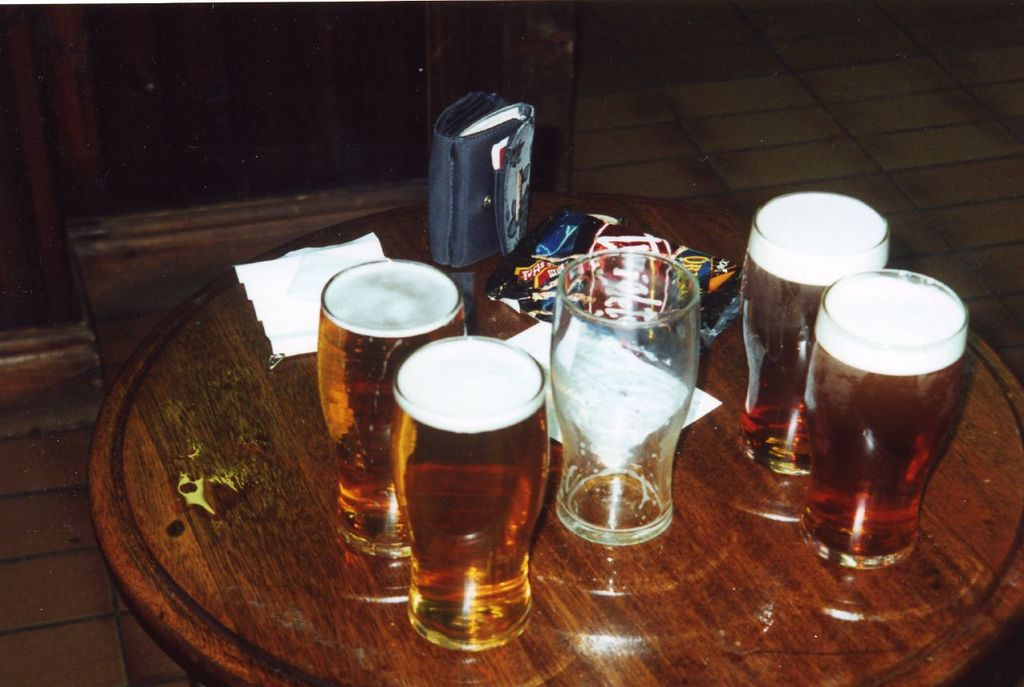Beer: (388, 335, 548, 646), (327, 255, 460, 551)
